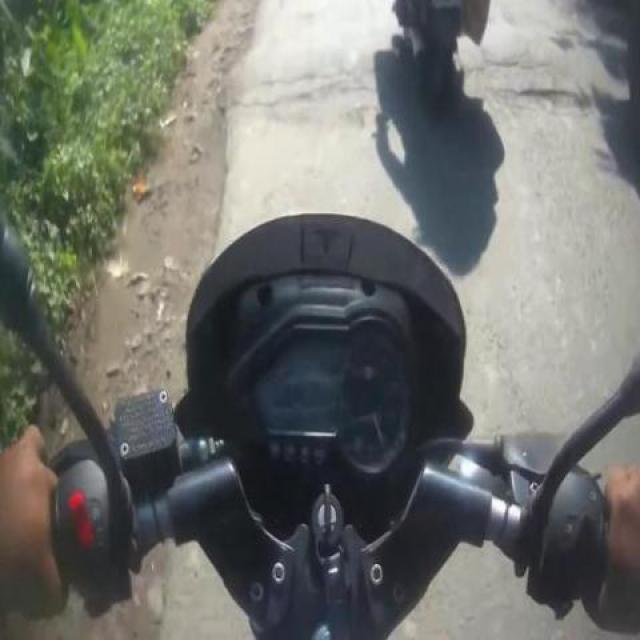Pothole: (250, 72, 379, 130), (488, 85, 592, 122), (478, 58, 548, 78)
